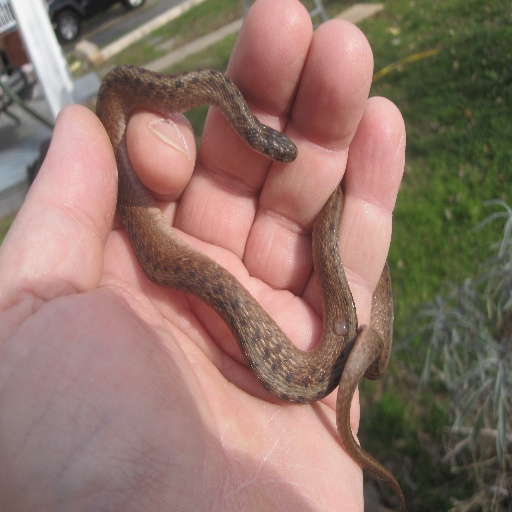hand: (0, 0, 401, 511)
